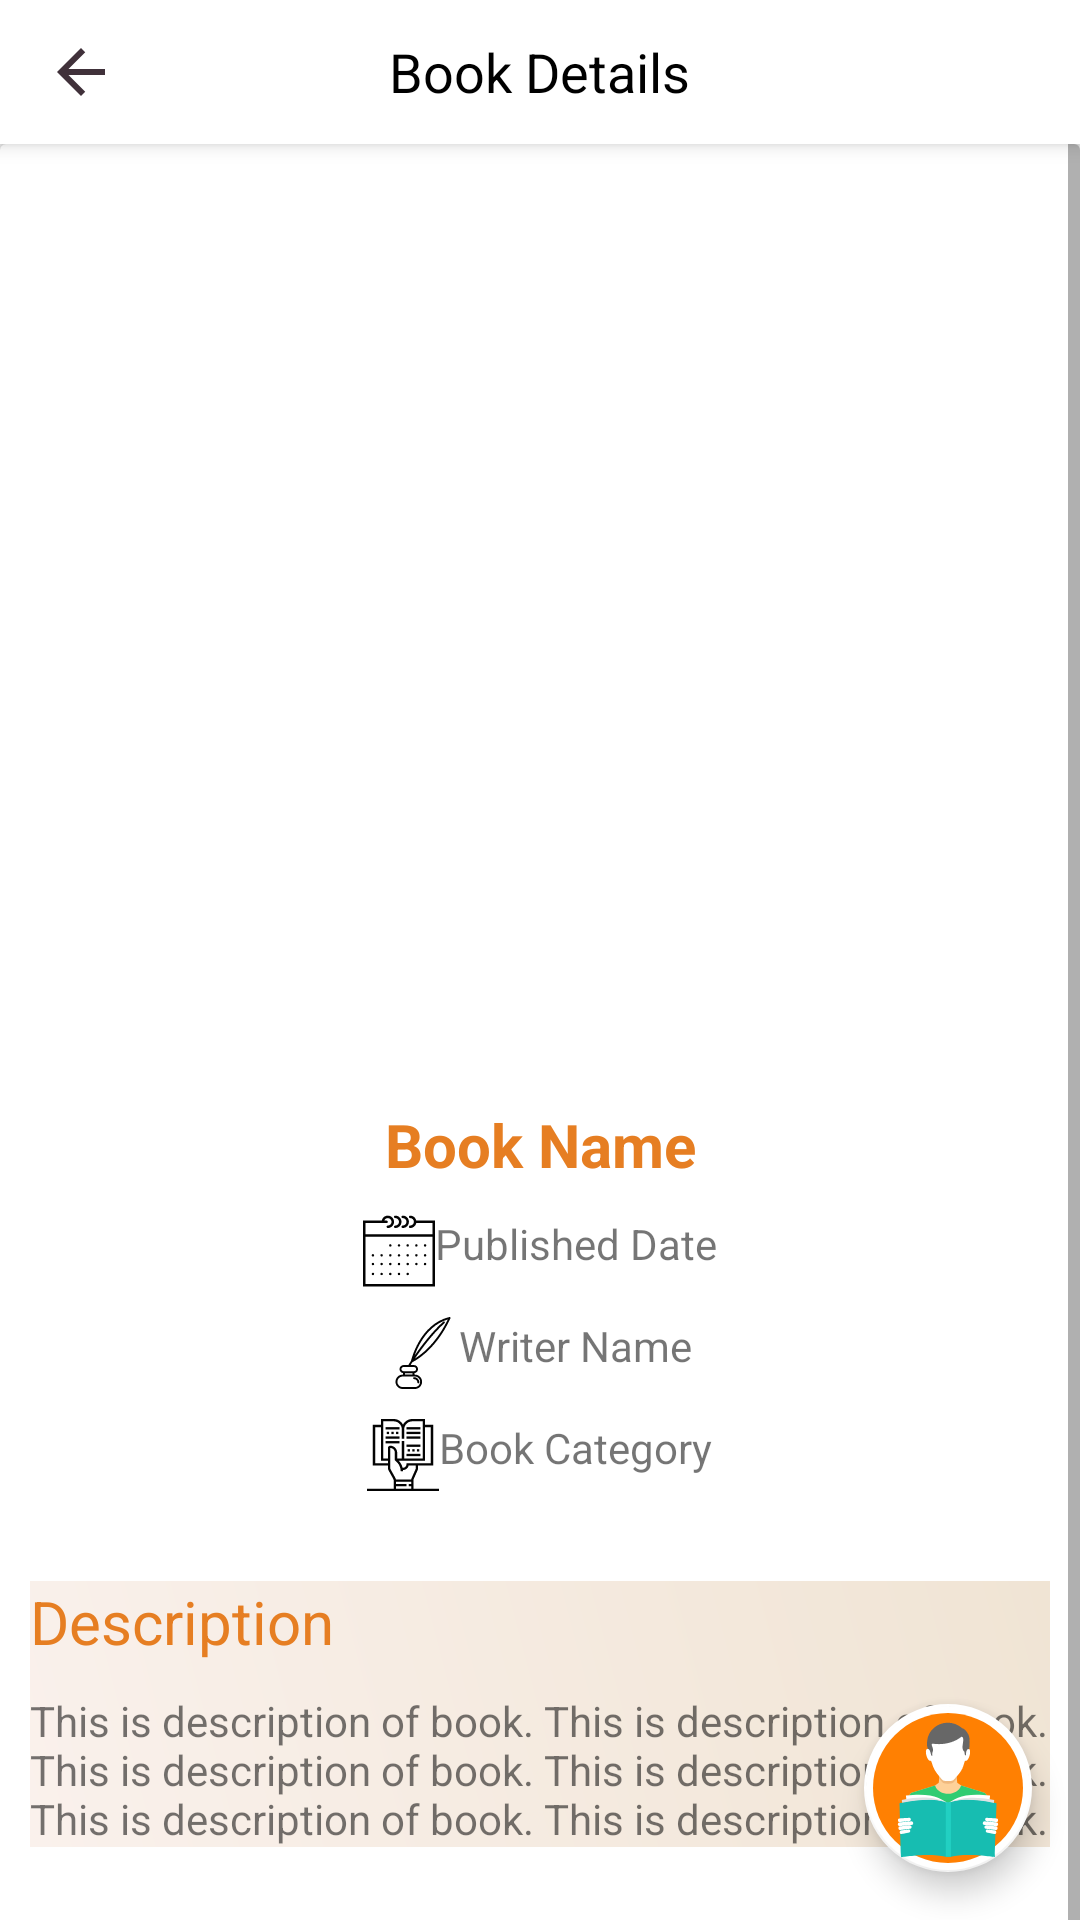

Named icons in this screenshot (1080w x 1920h) and their centers, (x=x, y=y):
arrow back: (x=81, y=72)
calendar: (x=399, y=1251)
poet: (x=423, y=1353)
reading: (x=948, y=1788)
